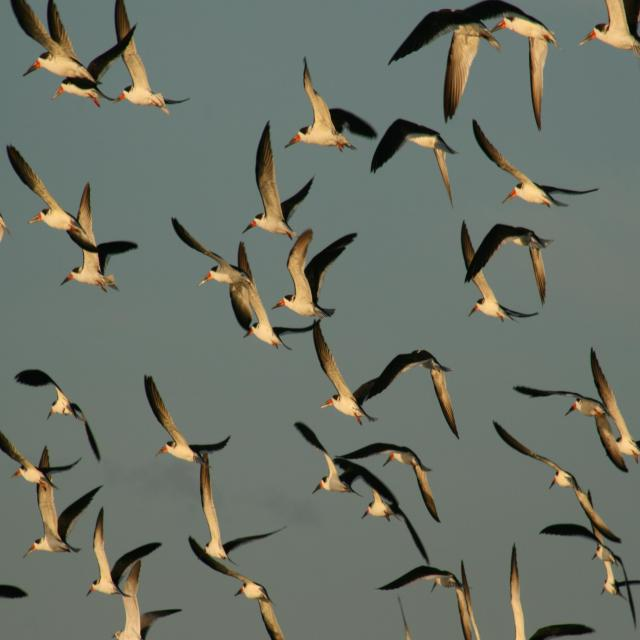bird: (390, 4, 560, 124), (2, 145, 136, 272), (492, 411, 631, 529), (174, 222, 292, 356), (306, 441, 444, 543), (180, 458, 292, 578), (302, 340, 451, 426), (546, 344, 640, 478), (470, 124, 603, 210), (140, 373, 234, 482), (458, 222, 557, 323), (13, 368, 109, 470), (244, 120, 317, 244), (13, 464, 103, 557), (370, 114, 458, 209), (290, 55, 373, 153), (12, 2, 104, 89), (377, 566, 481, 639), (276, 229, 356, 323), (114, 23, 194, 117), (86, 512, 164, 596), (290, 422, 374, 497), (58, 240, 138, 296), (576, 2, 640, 71), (112, 603, 186, 639)
